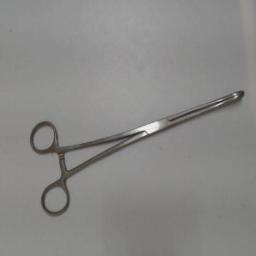Sponge Forceps: (24, 87, 252, 221)
